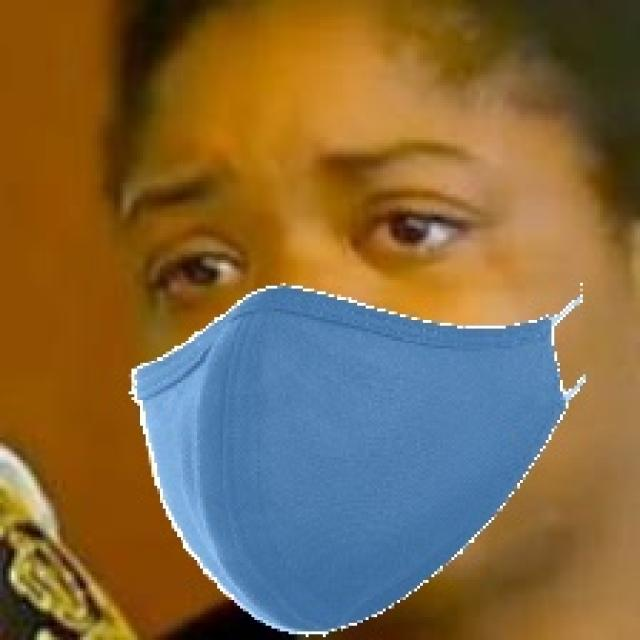mask: (90, 288, 613, 640)
